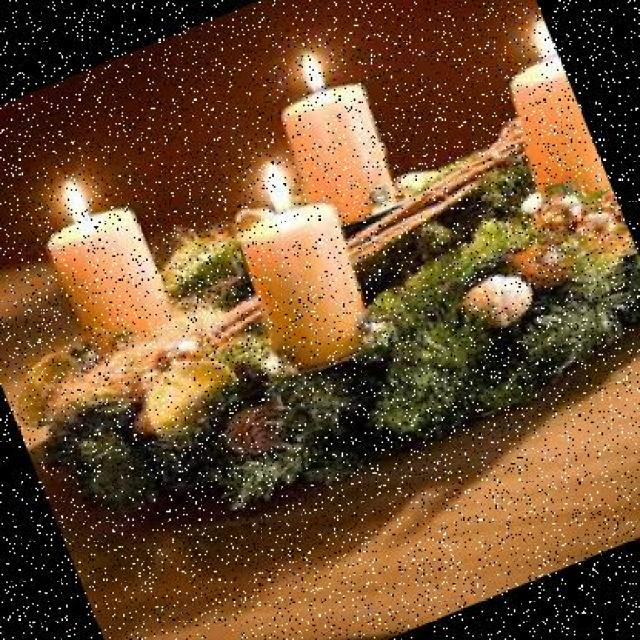fire: (46, 160, 114, 231), (249, 148, 308, 222), (288, 34, 343, 101), (512, 9, 554, 63)
